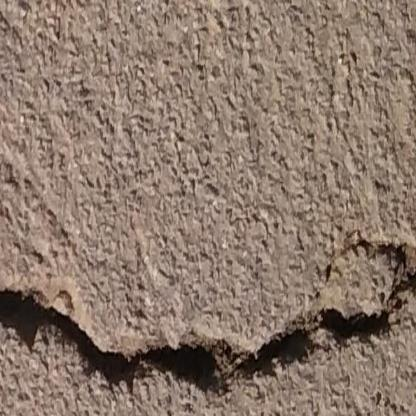Cracks: (0, 237, 416, 401)
